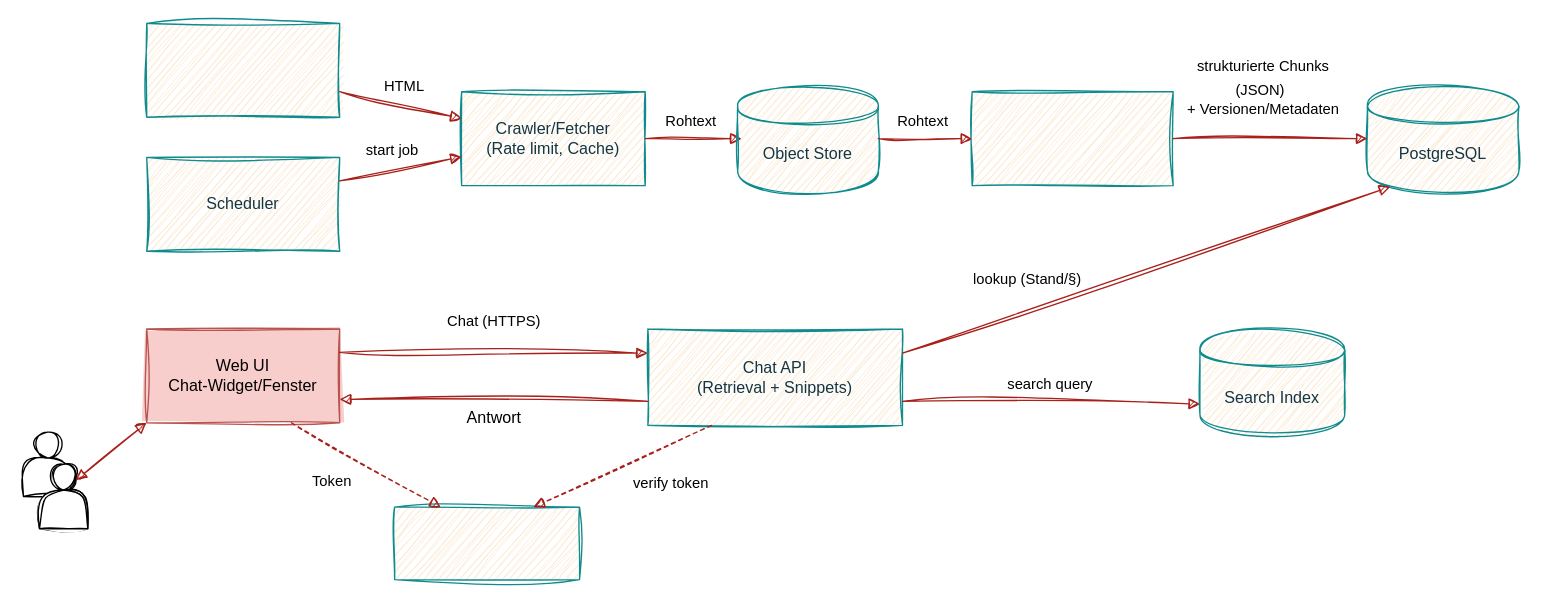
The diagram is 1542 pixels wide and 603 high, and some of its shapes have lost their labels. Each missing label, with the centre of its shape:
Auth/SSO: the point at 486,543
Parser & Normalizer (§/Absatz, Metadaten): the point at 1072,138
Quelle gesetze.berlin.de: the point at 242,69
